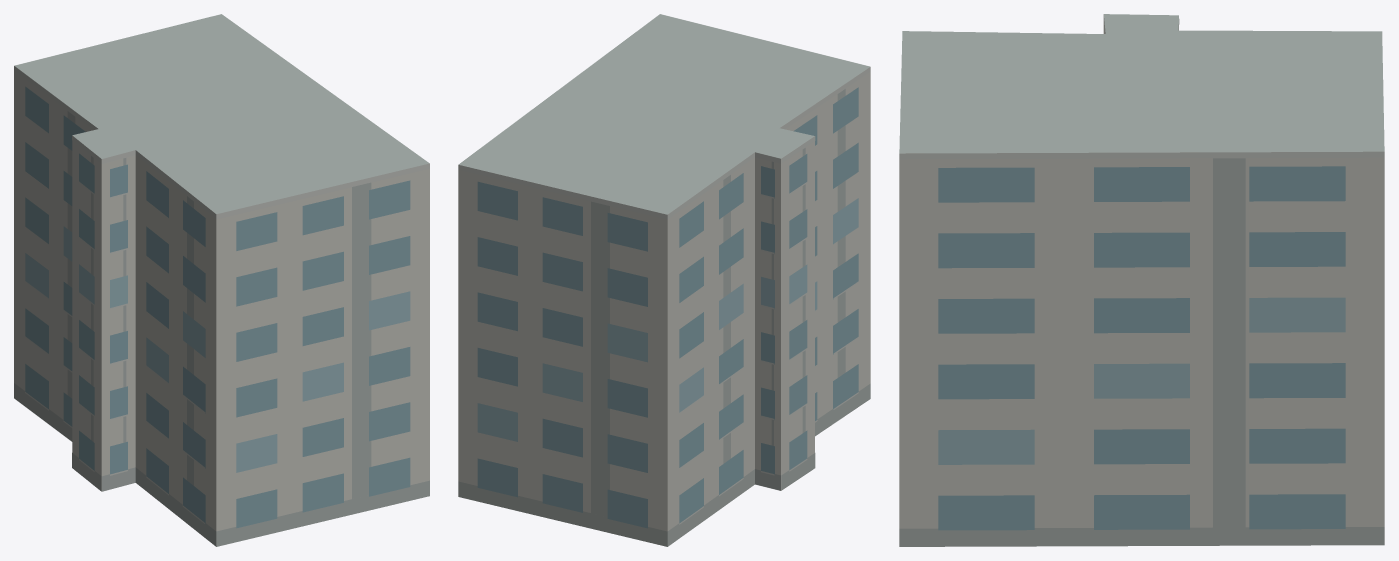
File: survey-upis-32809365.glb
The picture shows the model from 3 angles, left to right: view 1: azimuth 30°, elevation 25°; view 2: azimuth 150°, elevation 25°; view 3: azimuth 270°, elevation 25°; orthographic projection. The views are drawn at different scales.
Visible parts, largest first — view 1: survey-upis-32809365.tmp; view 2: survey-upis-32809365.tmp; view 3: survey-upis-32809365.tmp.
Part boxes in pixels (x1=…): survey-upis-32809365.tmp: x1=14, y1=14, x2=429, y2=546; survey-upis-32809365.tmp: x1=458, y1=14, x2=870, y2=546; survey-upis-32809365.tmp: x1=899, y1=14, x2=1384, y2=546.
Size of the model in its own units: 12.1 by 15.9 by 17.78.
